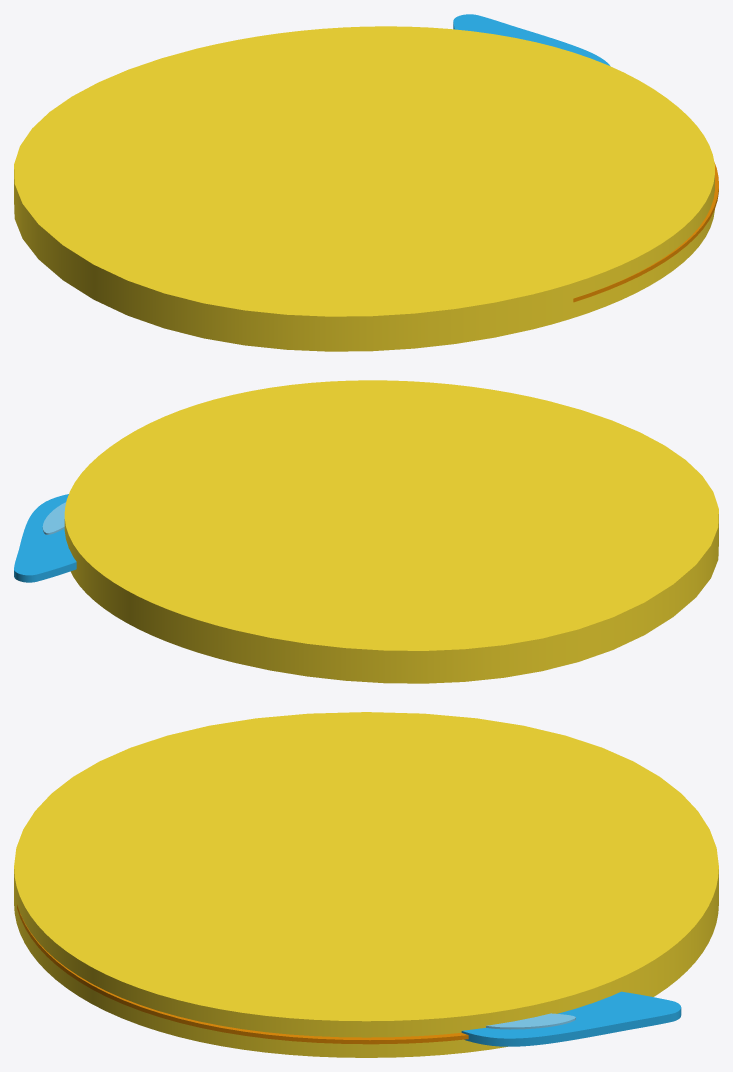
Rendered from emoji_u1f605.glb.
The picture shows the model from 3 angles, top to bottom: view 1: azimuth 30°, elevation 25°; view 2: azimuth 150°, elevation 25°; view 3: azimuth 270°, elevation 25°; orthographic projection. The views are drawn at different scales.
Visible parts, largest first — view 1: emoji_u1f605; view 2: emoji_u1f605; view 3: emoji_u1f605.
Part boxes in pixels (<box>): emoji_u1f605: <box>14,14,718,351</box>; emoji_u1f605: <box>14,380,718,683</box>; emoji_u1f605: <box>14,712,718,1057</box>.
Bounding box in the file's own units: 0.0328 × 0.0018 × 0.0313.
